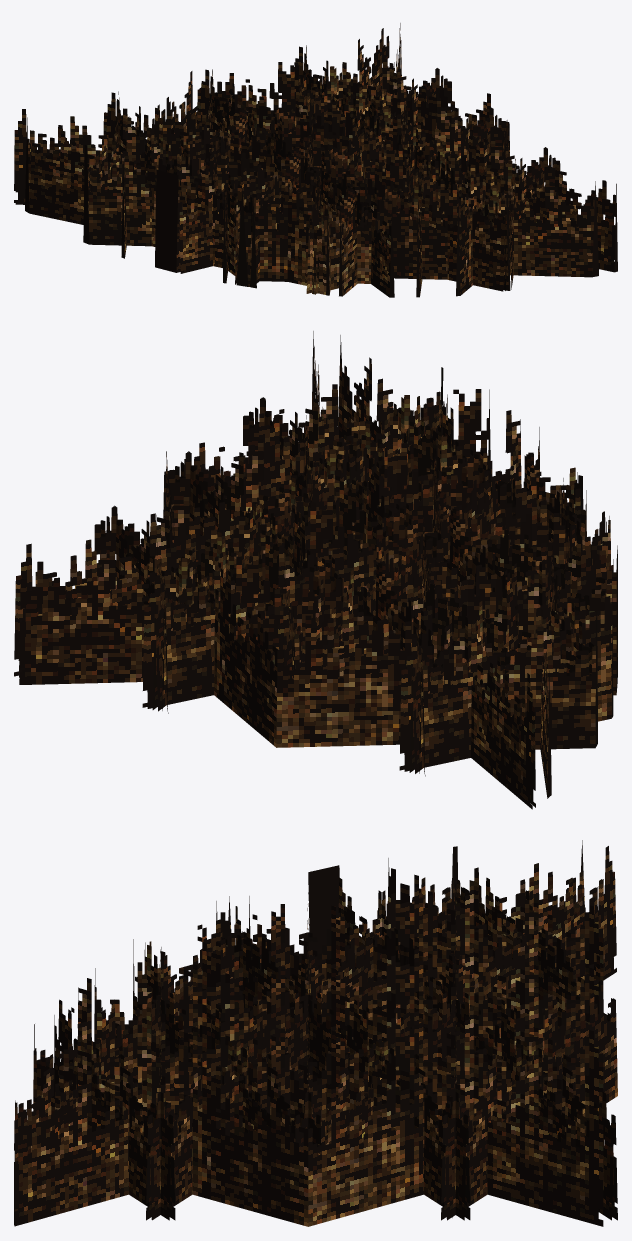
File: grass_patch_corner_winter.glb
3 views of the same model, one above another, from view 1: azimuth 30°, elevation 25°; view 2: azimuth 150°, elevation 25°; view 3: azimuth 270°, elevation 25° (orthographic). The views are drawn at different scales.
Visible parts, largest first — view 1: grass_patch_corner; view 2: grass_patch_corner; view 3: grass_patch_corner.
Part boxes in pixels (<box>): grass_patch_corner: <box>14,23,617,297</box>; grass_patch_corner: <box>14,331,617,809</box>; grass_patch_corner: <box>14,840,617,1226</box>.
Size of the model in its own units: 1.64 by 0.4 by 1.64.
Materials: 1 (1 with a texture image).
